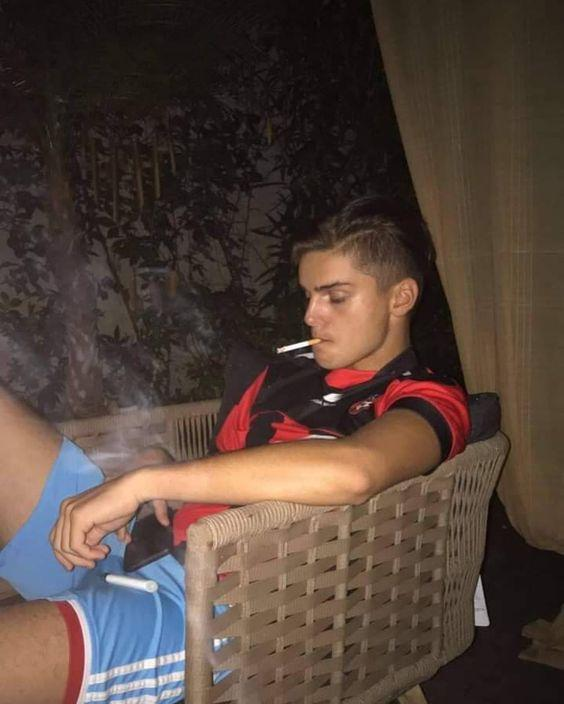cigarette: (277, 339, 322, 353)
